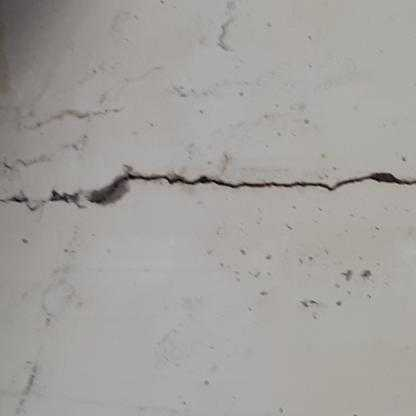crack: (0, 172, 416, 212)
